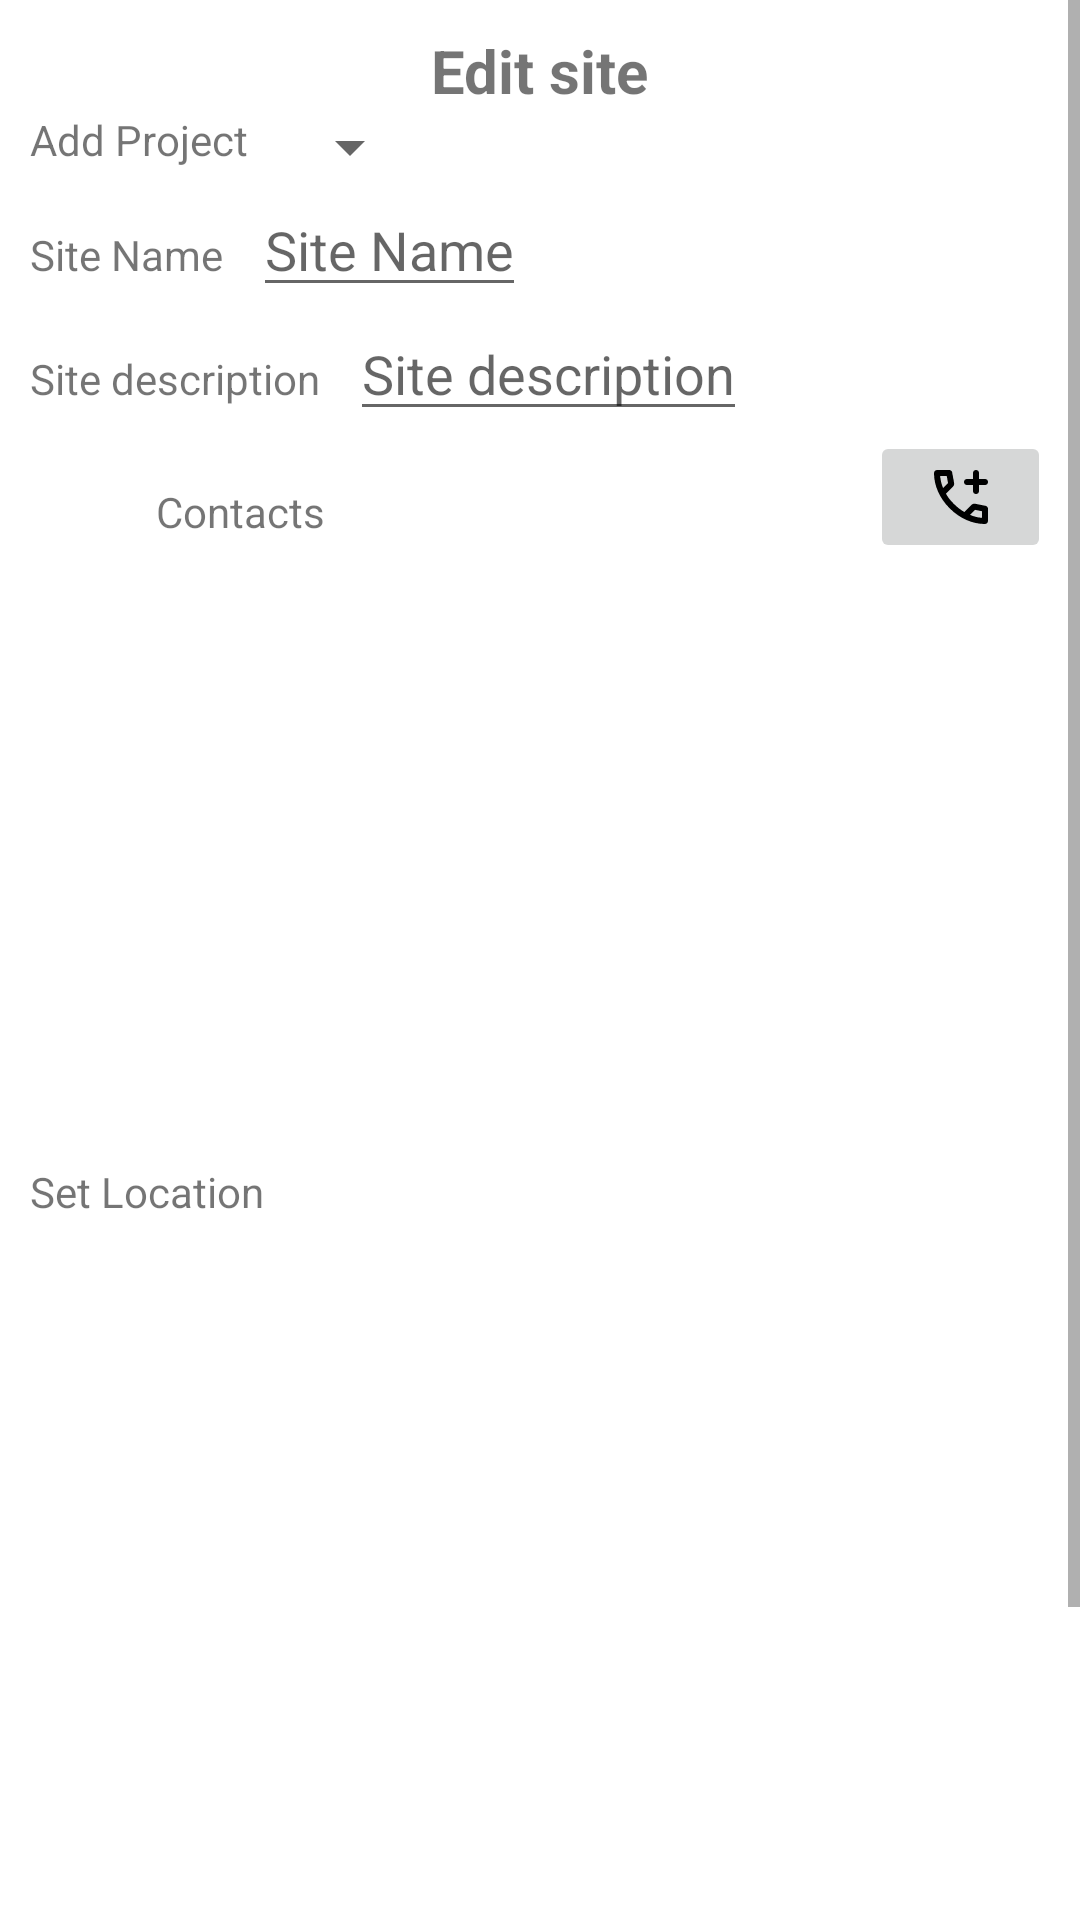

Screen size 1080×1920. Icon name, then its center in pixels as [x,y]:
add contact: [960,497]
